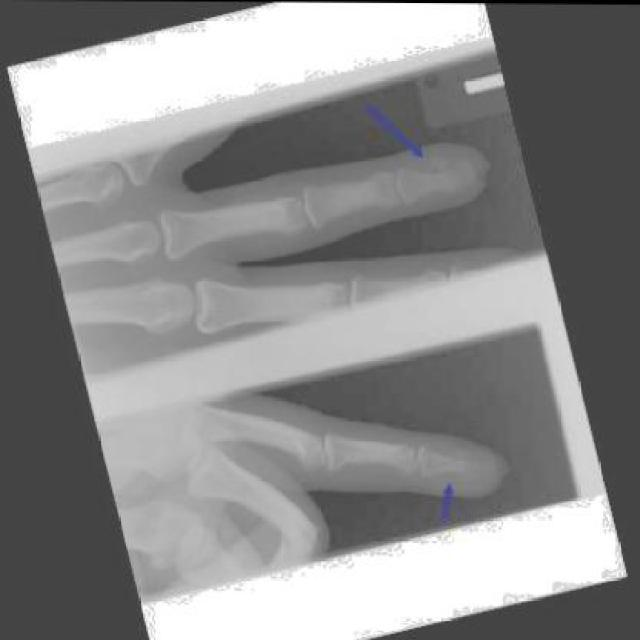Fracture: (423, 141, 497, 219), (434, 433, 510, 501)
